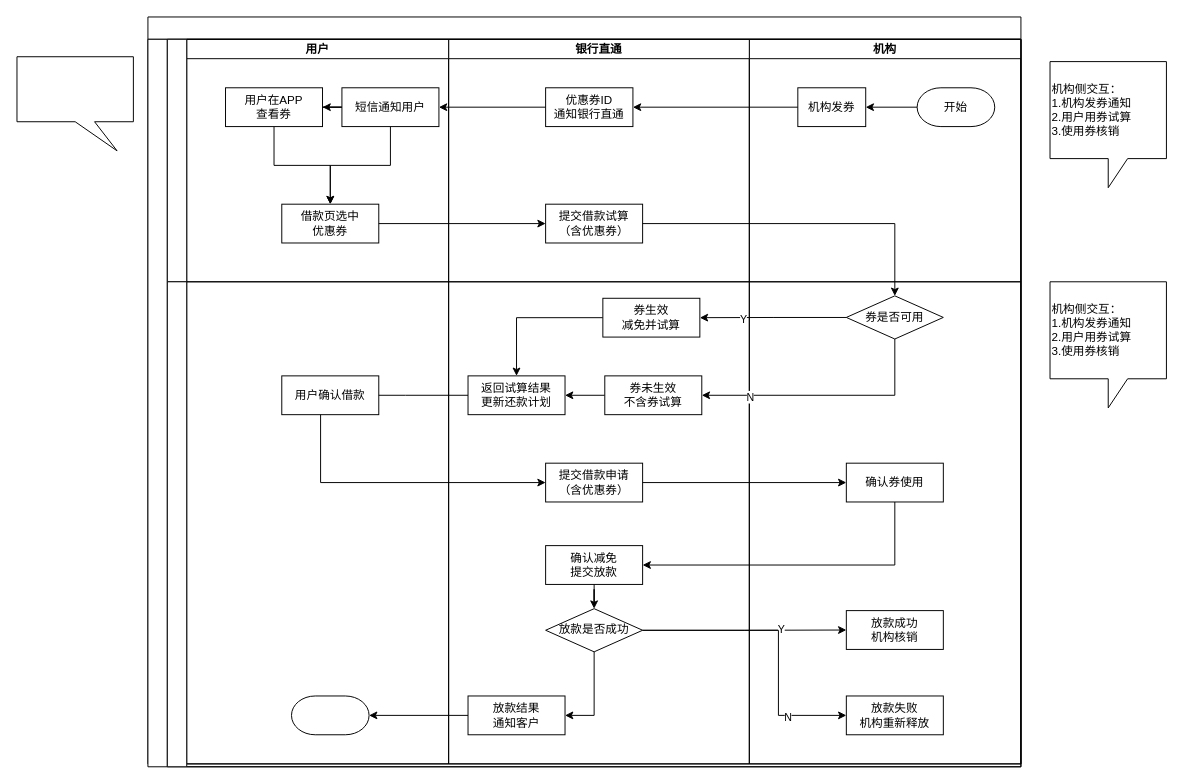
Image size: 1183x784. Some labels were removed from this diagram. The box of each missing label's shape, as (x1, y1, x2, y2) in pixels:
发券和通知: (166, 38, 1021, 282)
用券及核销: (166, 281, 1021, 767)
用户侧push、sms、优惠券提示: (16, 56, 133, 151)
通知客户: (291, 695, 369, 735)
